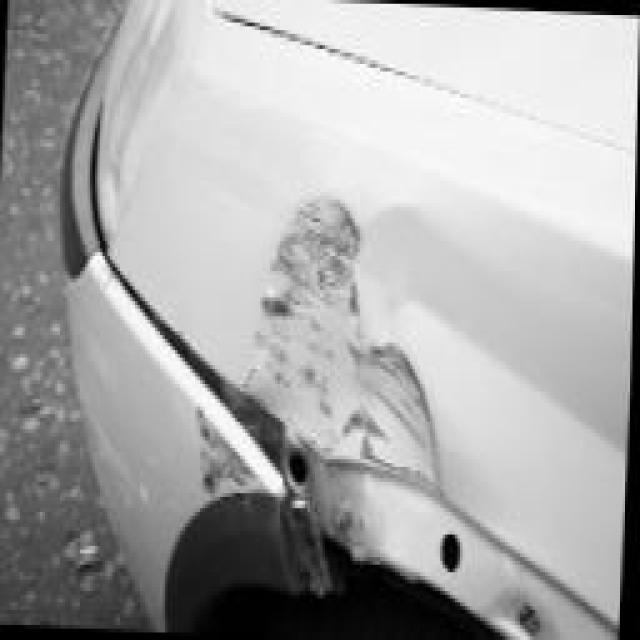Bumper: (57, 239, 339, 638)
Fender: (88, 101, 630, 551)
